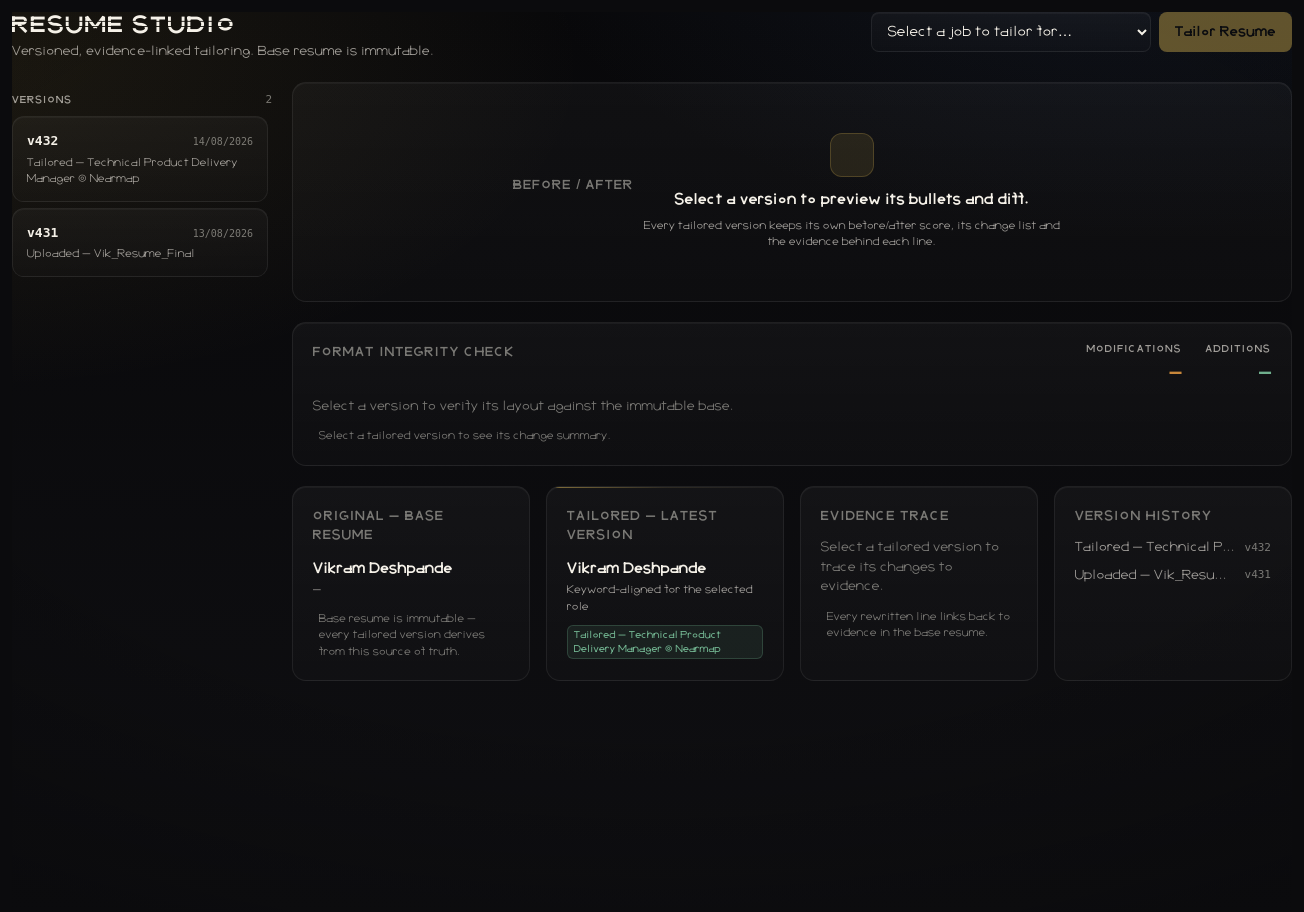
U2b — the integrity headline and the verified counts cannot contradict each other › does not claim the layout is preserved above a notice that a tailored change is missing
Step 1. Click the button with test id "resume-version-card" → (140, 159), box [12,116,268,202]
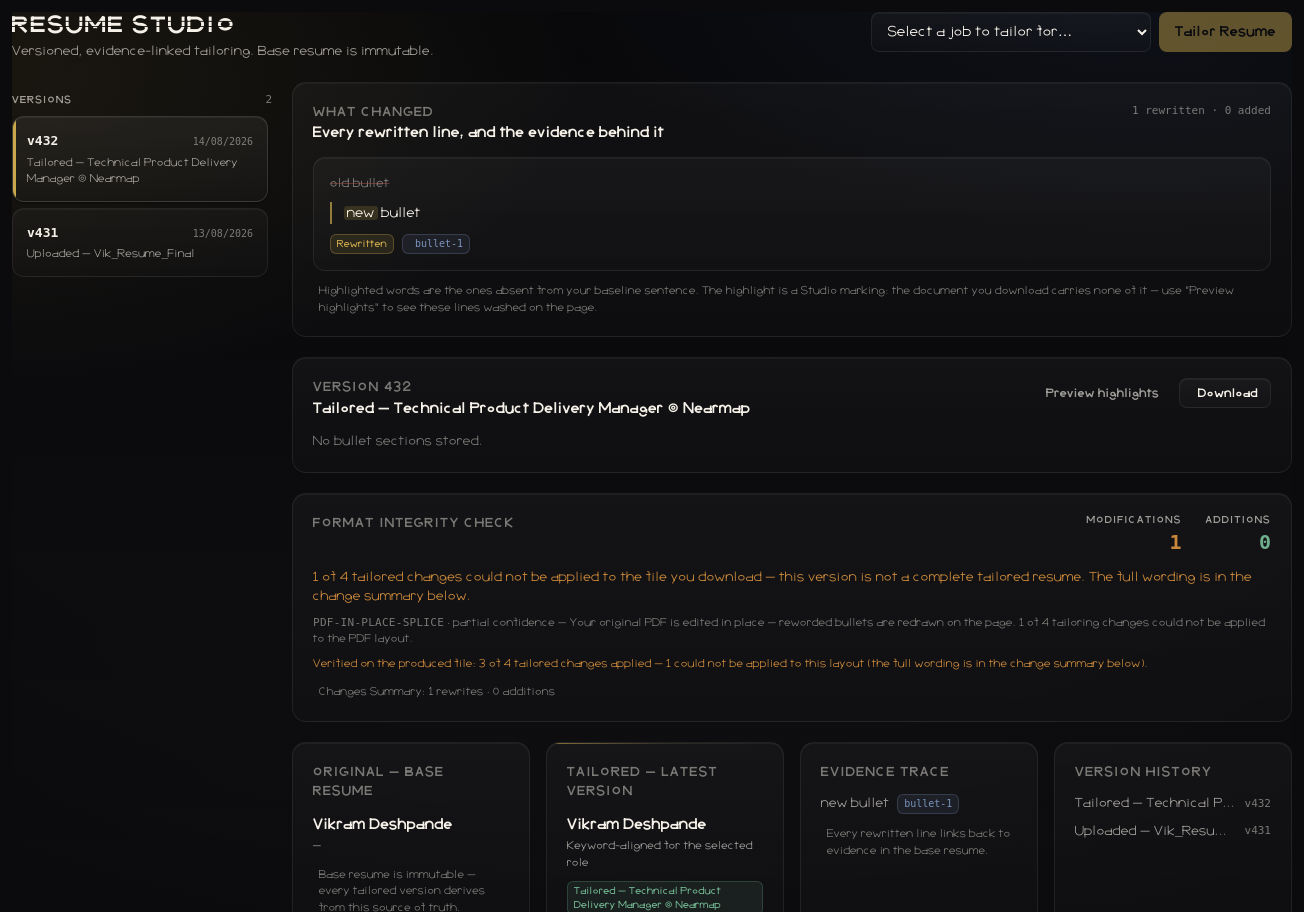
Result: the text with test id "format-fidelity-counts" is shown at [313,656,1271,672]
